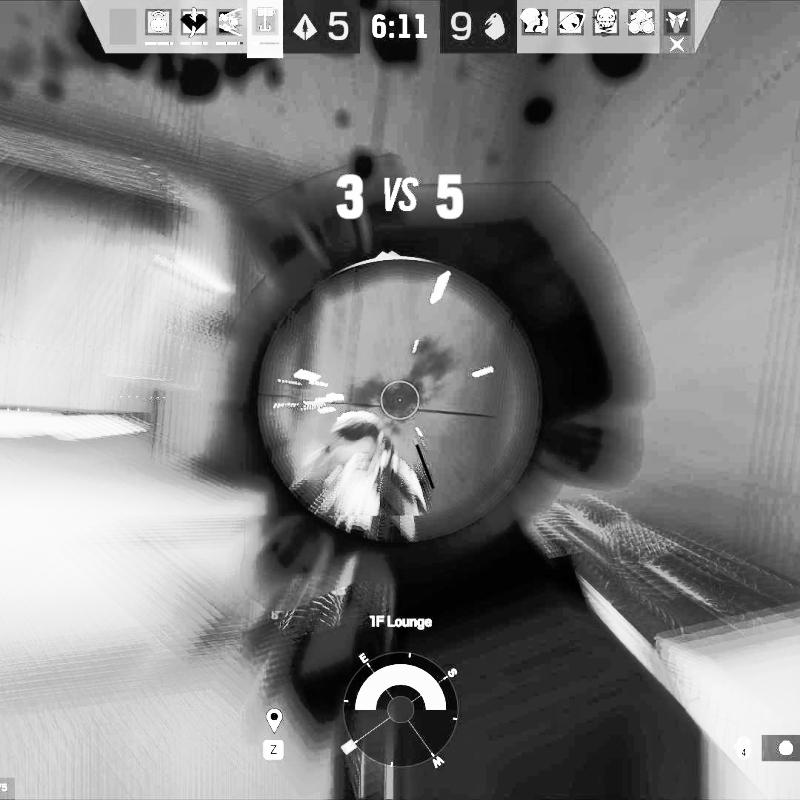Character: (285, 408, 428, 553)
Head: (324, 408, 385, 484)
